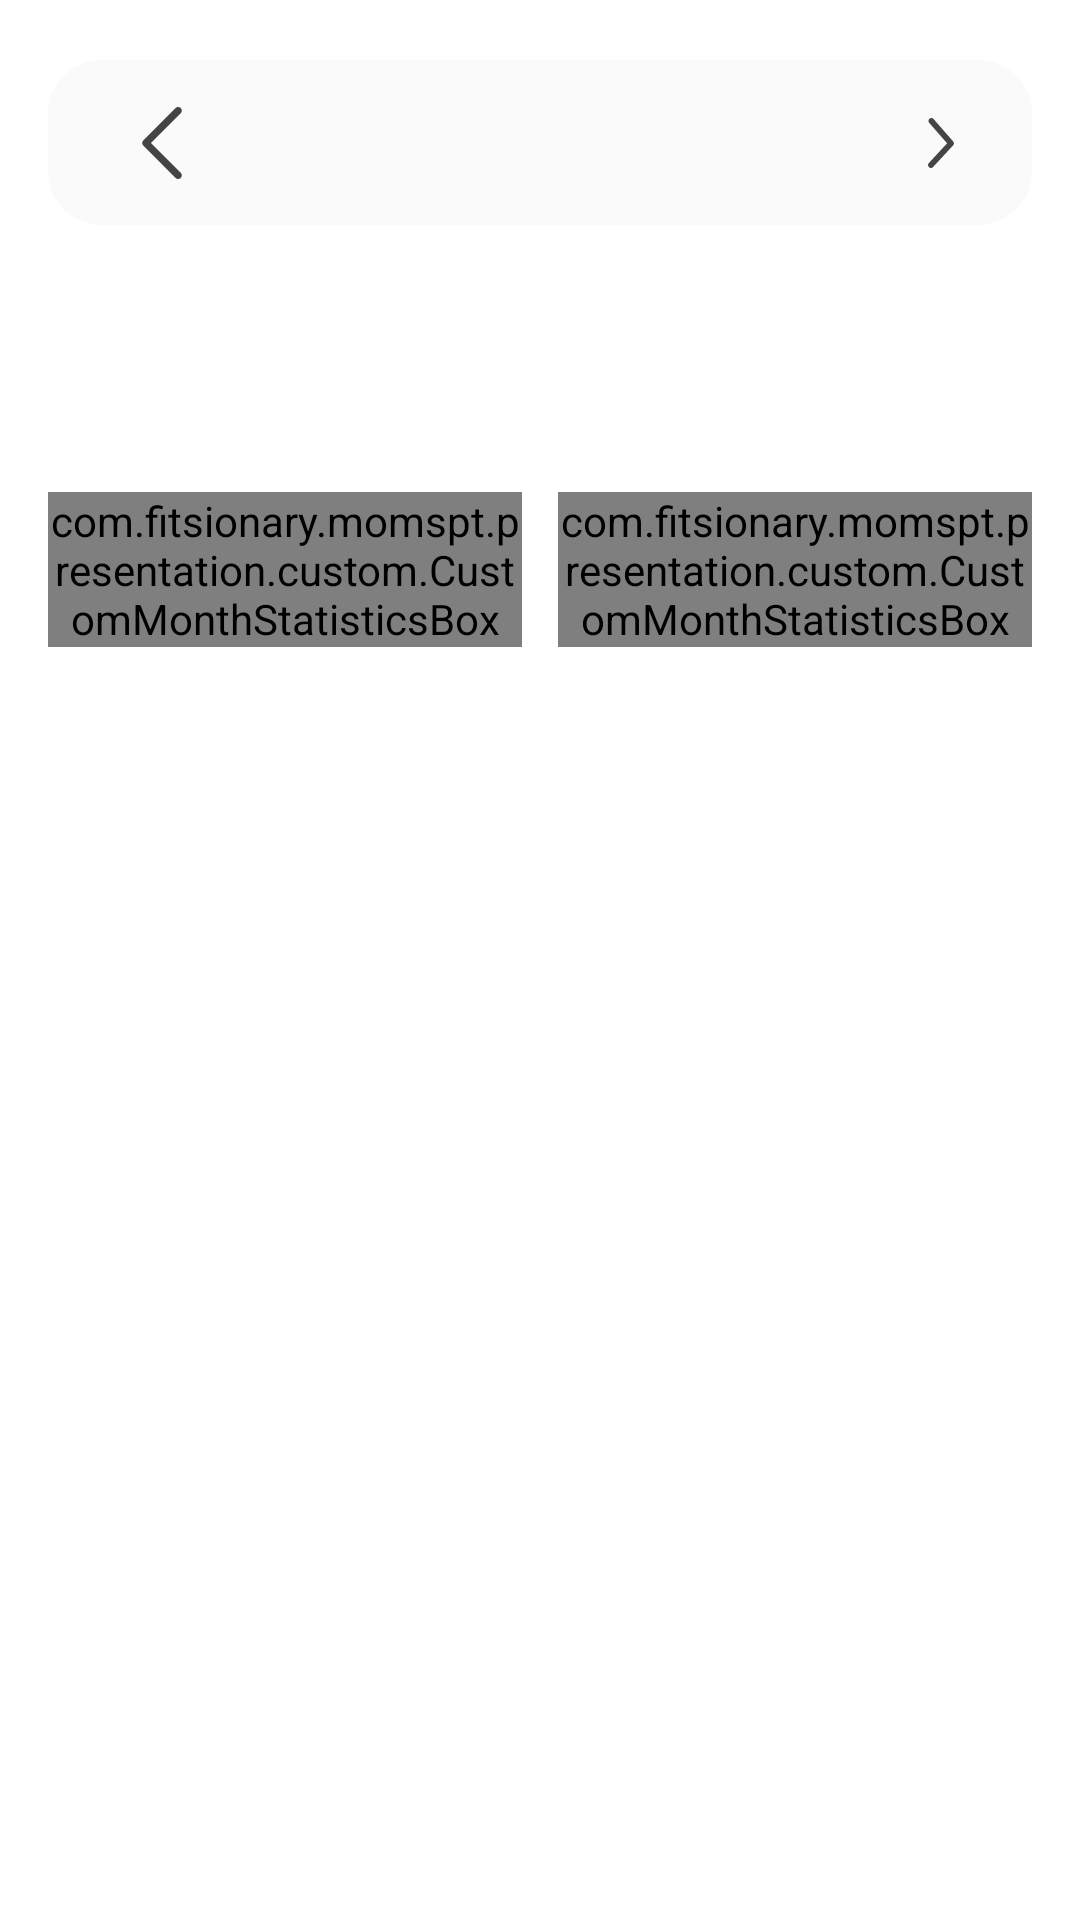

Screen size 1080 x 1920. Icon name, then its center in pixels as (x,y):
back: (162,143)
back reverse: (941,143)
